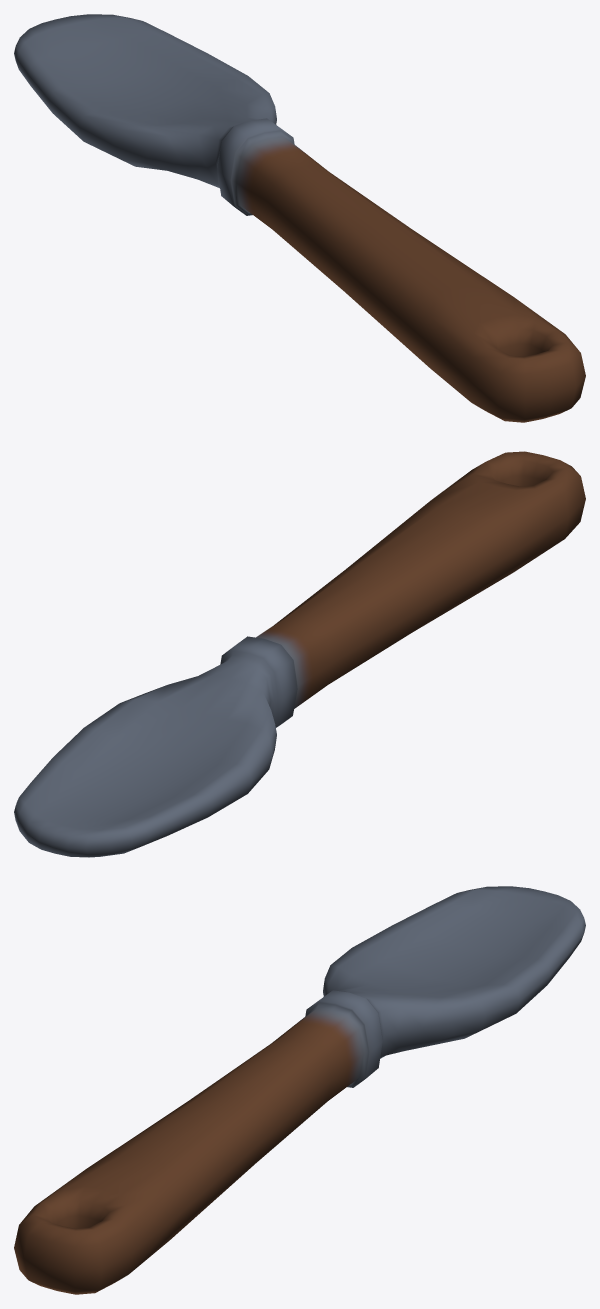
File: BigSpoon.fbx
3 views of the same model, one above another, from view 1: azimuth 30°, elevation 25°; view 2: azimuth 150°, elevation 25°; view 3: azimuth 330°, elevation 25° (orthographic).
Parts seen in each view (by area): view 1: BigSpoon; view 2: BigSpoon; view 3: BigSpoon.
Part boxes in pixels (left/top/right/bottom): BigSpoon: left=14, top=14, right=585, bottom=422; BigSpoon: left=14, top=451, right=585, bottom=857; BigSpoon: left=14, top=886, right=585, bottom=1294.
Size of the model in its own units: 5.84 by 2.74 by 29.3.
